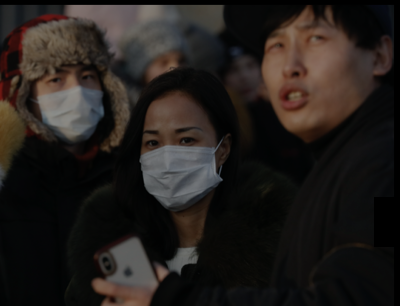with_mask: (139, 120, 223, 213), (31, 64, 106, 141)
without_mask: (262, 20, 374, 139)
